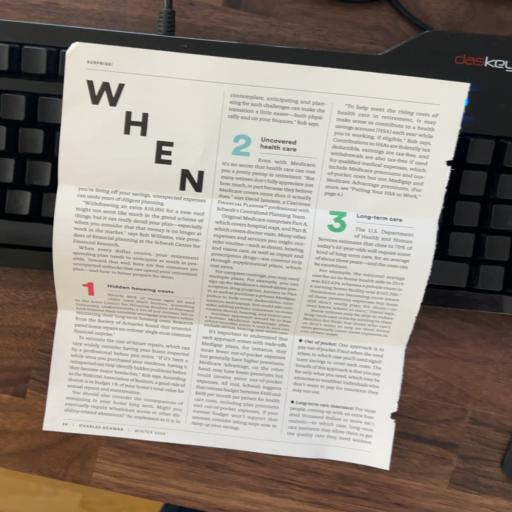paper: (32, 28, 436, 501)
